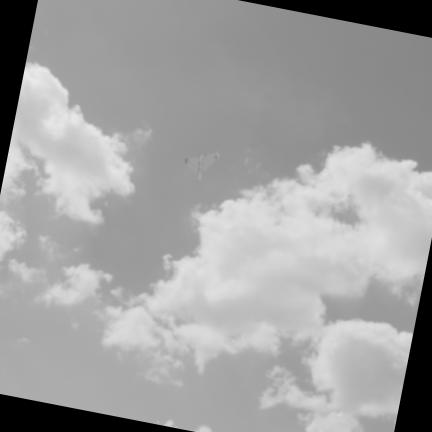Shahed: (184, 151, 219, 182)
